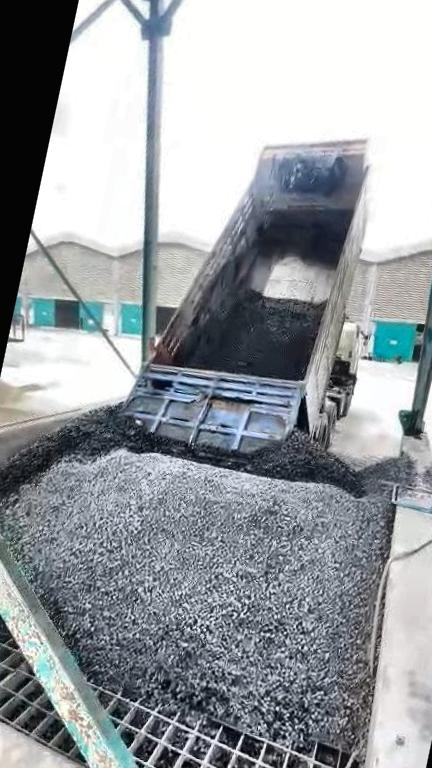gravel: (0, 405, 417, 748), (185, 291, 322, 379), (0, 560, 2, 628)
sand: (0, 376, 79, 434)
